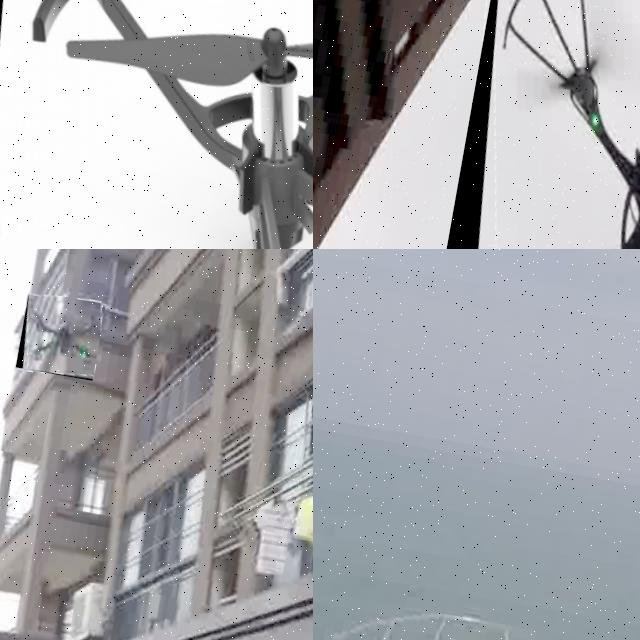0: (426, 0, 640, 249), (15, 290, 105, 381)
drone: (0, 0, 313, 249)
